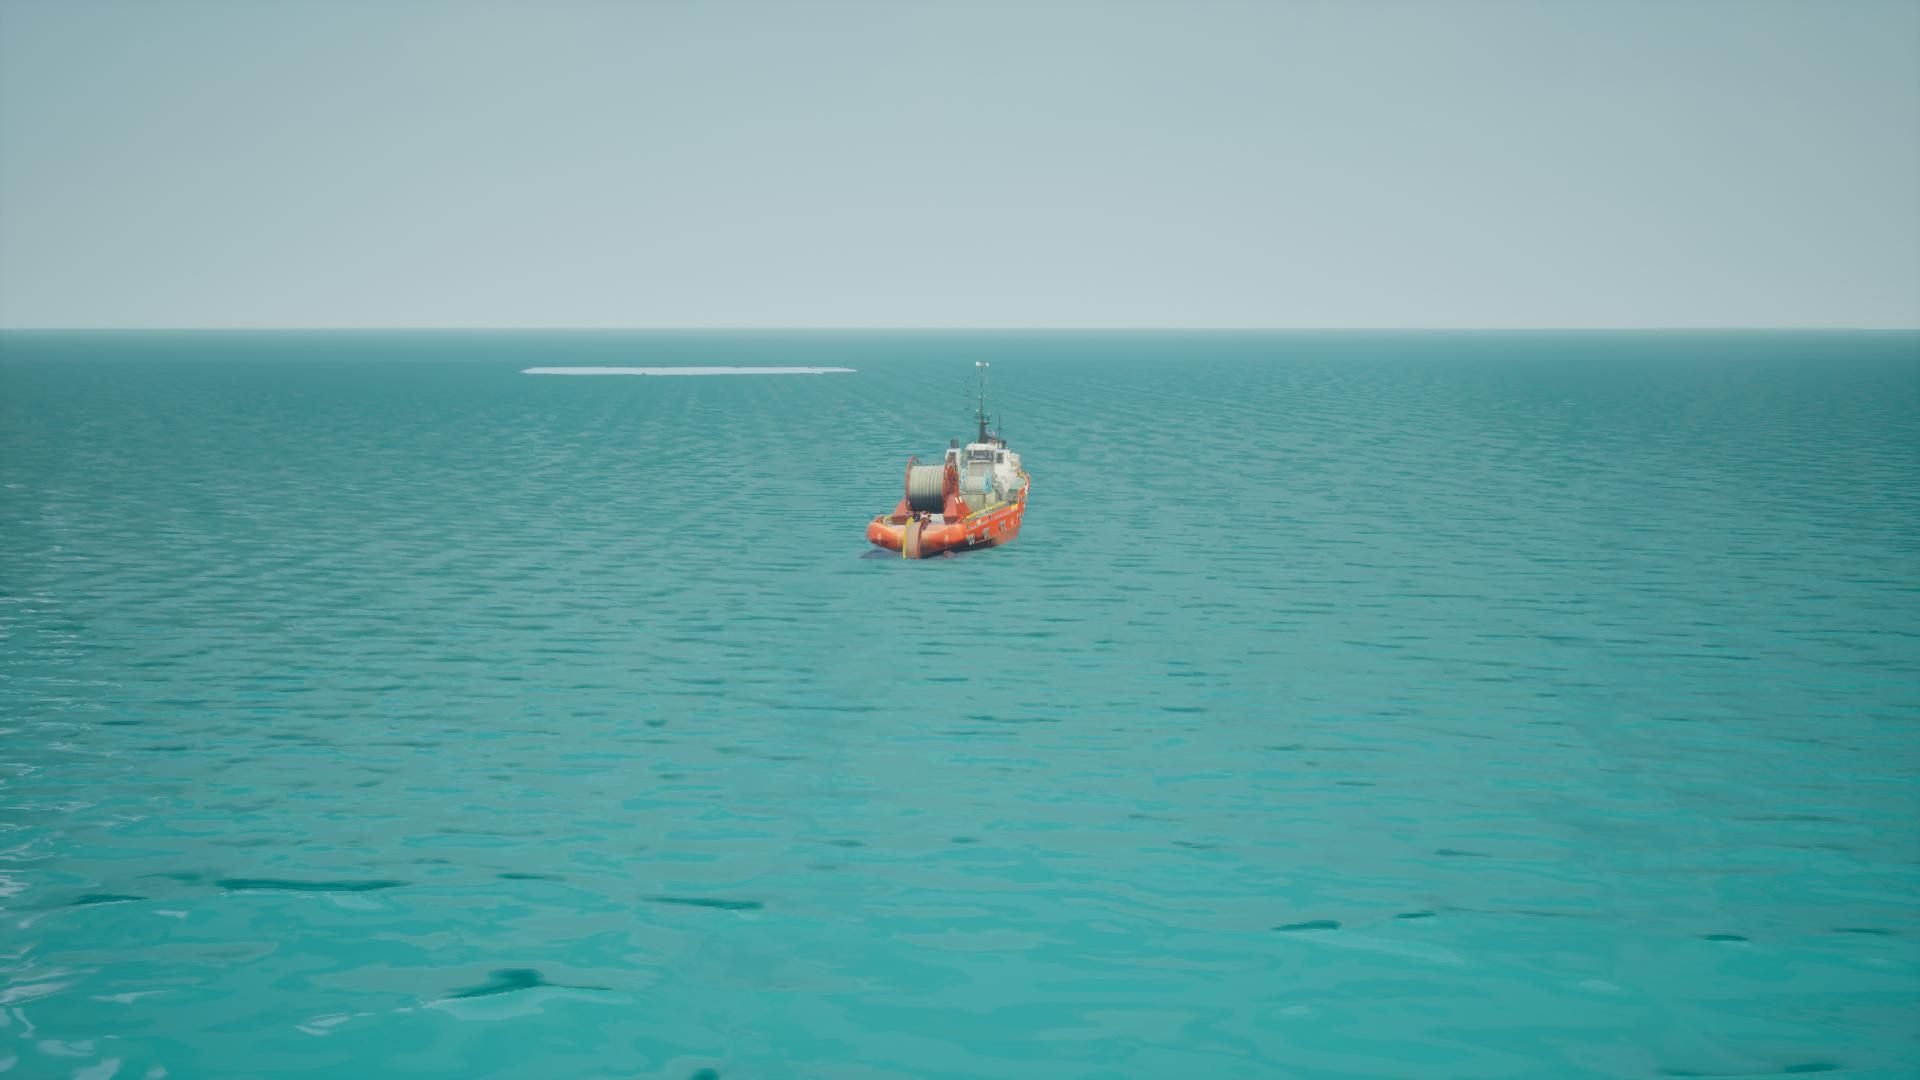Tug Boat: (868, 364, 1033, 562)
